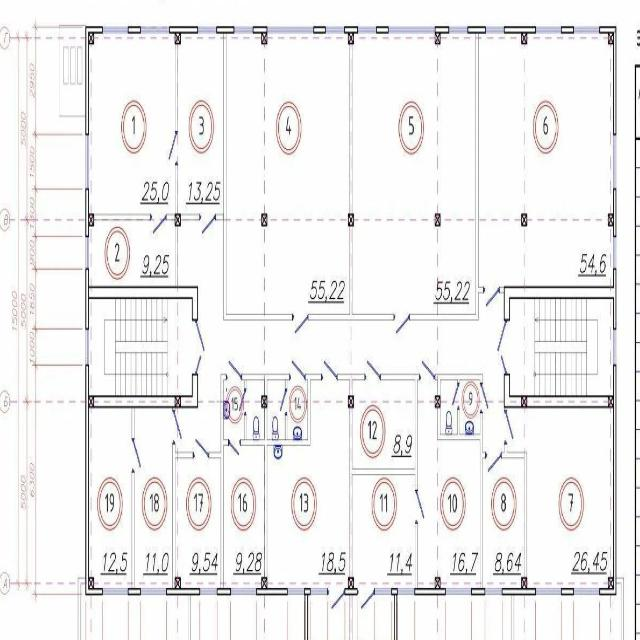Bathrooms: (224, 379, 243, 439), (288, 382, 307, 438), (267, 380, 285, 438), (247, 381, 264, 438), (460, 382, 479, 433), (440, 379, 457, 433)
Corridors: (175, 220, 504, 451), (353, 476, 414, 588), (58, 24, 86, 117), (510, 298, 533, 395), (169, 299, 192, 395), (353, 597, 394, 640), (310, 596, 349, 640)
Doors: (192, 321, 206, 374), (497, 321, 510, 374), (357, 588, 375, 613), (327, 588, 345, 612), (394, 312, 410, 338), (484, 285, 499, 312), (172, 409, 184, 442), (151, 212, 167, 236), (290, 356, 305, 381), (200, 213, 215, 238), (226, 357, 242, 380), (419, 357, 435, 380), (194, 436, 209, 460), (293, 313, 308, 337), (167, 131, 178, 163), (322, 357, 337, 380), (131, 438, 142, 469), (487, 451, 501, 475), (504, 412, 515, 442), (365, 357, 380, 379), (415, 490, 425, 522), (480, 383, 490, 412), (279, 387, 288, 415), (228, 438, 240, 458), (238, 389, 247, 415), (451, 383, 460, 408)
LBwalls: (503, 365, 616, 597), (85, 364, 198, 595), (504, 268, 617, 330), (85, 268, 198, 330), (599, 25, 617, 134), (86, 26, 102, 135), (391, 588, 398, 640), (304, 588, 310, 640), (166, 588, 201, 596), (169, 25, 198, 34), (504, 26, 535, 34), (502, 588, 536, 595), (256, 588, 288, 595), (415, 588, 446, 595), (85, 188, 89, 236), (216, 26, 234, 34), (613, 188, 616, 236), (468, 26, 485, 34), (253, 25, 267, 34), (561, 587, 574, 596), (344, 25, 358, 33), (435, 26, 449, 34), (471, 588, 485, 596), (128, 25, 140, 34), (376, 26, 389, 34), (561, 26, 574, 34), (128, 588, 141, 596), (217, 588, 231, 595), (314, 26, 326, 34), (345, 588, 358, 595), (174, 32, 181, 44), (348, 576, 354, 589), (348, 395, 354, 408), (261, 395, 267, 408), (261, 213, 267, 226), (174, 213, 180, 226), (348, 213, 354, 226), (435, 213, 441, 226), (521, 214, 527, 227), (348, 32, 354, 45), (608, 32, 614, 45), (261, 34, 267, 46), (88, 32, 94, 44), (261, 576, 267, 588), (521, 576, 527, 588), (175, 576, 180, 589), (435, 576, 440, 589), (435, 395, 440, 408), (89, 214, 94, 227), (435, 32, 440, 45), (522, 33, 527, 46), (608, 213, 613, 226), (608, 576, 613, 588)
Offices: (353, 33, 476, 314), (227, 32, 349, 312), (480, 35, 613, 286), (507, 409, 613, 587), (267, 381, 349, 588), (89, 35, 174, 214), (418, 381, 479, 588), (178, 35, 223, 211), (89, 409, 131, 587), (135, 407, 172, 587), (176, 458, 220, 588), (224, 446, 264, 587), (89, 220, 175, 285), (483, 459, 524, 587), (353, 382, 414, 467)
Stairs: (532, 298, 613, 396), (89, 299, 169, 396)
Walls: (408, 32, 485, 321), (223, 32, 293, 321), (240, 373, 322, 576), (435, 373, 487, 588), (307, 227, 394, 321), (352, 373, 420, 491), (209, 373, 229, 587), (500, 441, 527, 576), (172, 440, 194, 589), (337, 373, 365, 395), (349, 407, 352, 576), (349, 43, 352, 211), (131, 469, 134, 588), (94, 214, 152, 220), (175, 44, 178, 133), (415, 520, 418, 589), (175, 226, 178, 286), (175, 161, 178, 212), (180, 213, 201, 220), (349, 596, 352, 640), (131, 408, 134, 439), (215, 213, 224, 221), (166, 214, 175, 220), (499, 286, 504, 294), (504, 406, 507, 412)
Windows: (268, 26, 314, 34), (141, 25, 169, 34), (389, 27, 434, 32), (613, 134, 617, 187), (102, 26, 128, 34), (445, 589, 471, 596), (536, 588, 561, 595), (234, 25, 253, 34), (86, 134, 89, 188), (448, 26, 468, 34), (141, 588, 167, 594), (198, 26, 217, 34), (536, 27, 561, 33), (574, 589, 599, 595), (311, 587, 329, 595), (357, 26, 376, 33), (574, 27, 600, 32), (230, 589, 256, 594), (326, 26, 344, 33), (103, 589, 128, 594), (486, 26, 503, 33), (485, 588, 502, 595), (614, 327, 617, 366), (85, 327, 88, 365), (199, 589, 217, 595), (398, 589, 415, 595), (375, 589, 391, 595), (288, 589, 304, 594), (86, 235, 88, 269), (614, 236, 616, 268)
